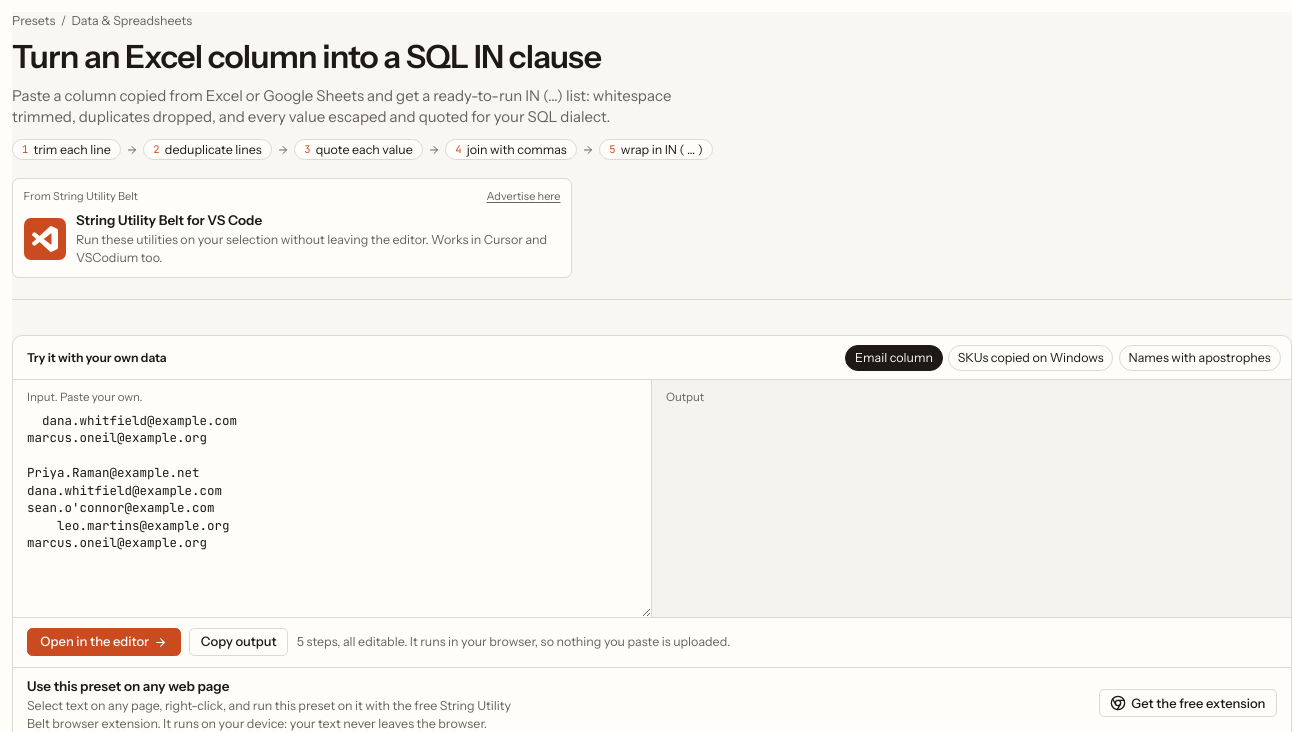
Test: PresetPage › reports a failing step in words, with its number and name
Expected: the heading "Turn an Excel column into a SQL IN clause" is shown, [12,37,601,76]
Replace the text in the text box named "preset input" with "x" at (332,512), box [13,406,651,616]
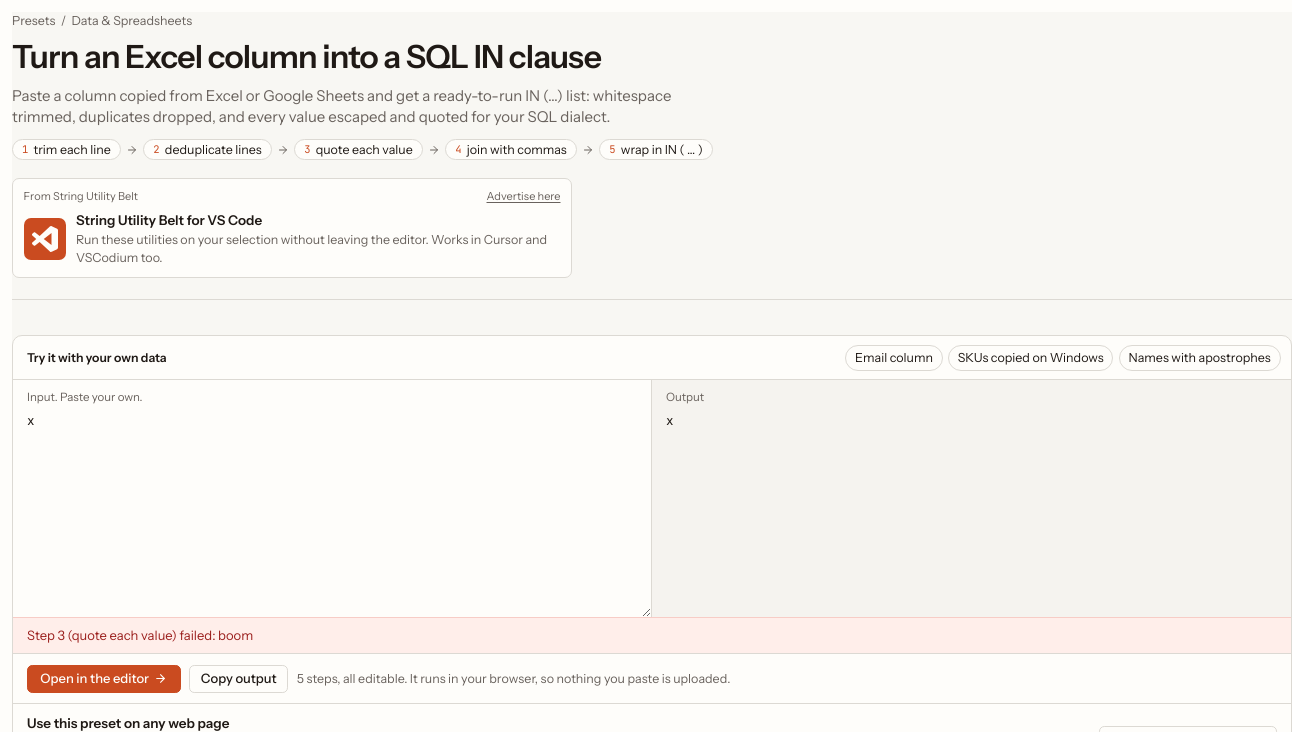
Now the message "Step 3 (quote each value) failed: boom" is shown, box [13,616,1291,653]
